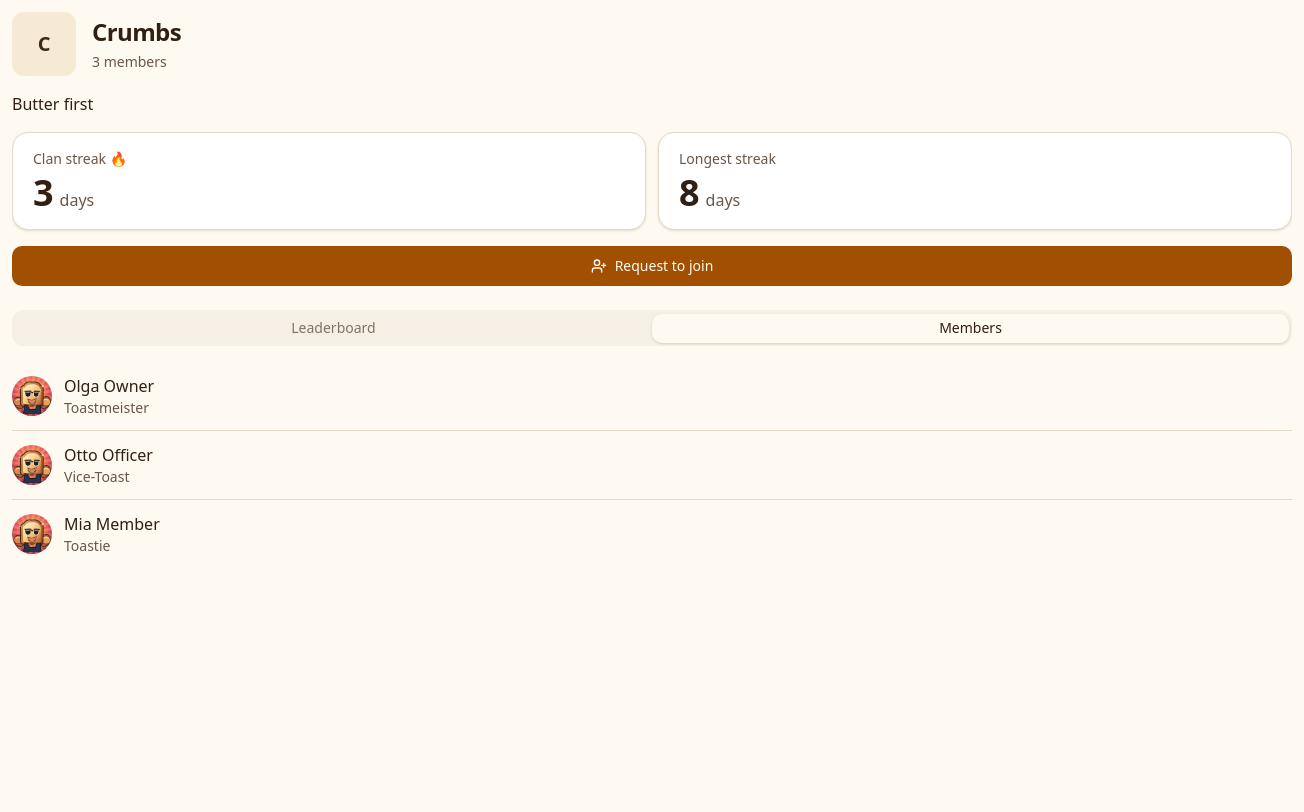
Test: ClanPage › explains a join conflict
Click the button "Request to join".
click(652, 266)  # box [12,246,1292,286]
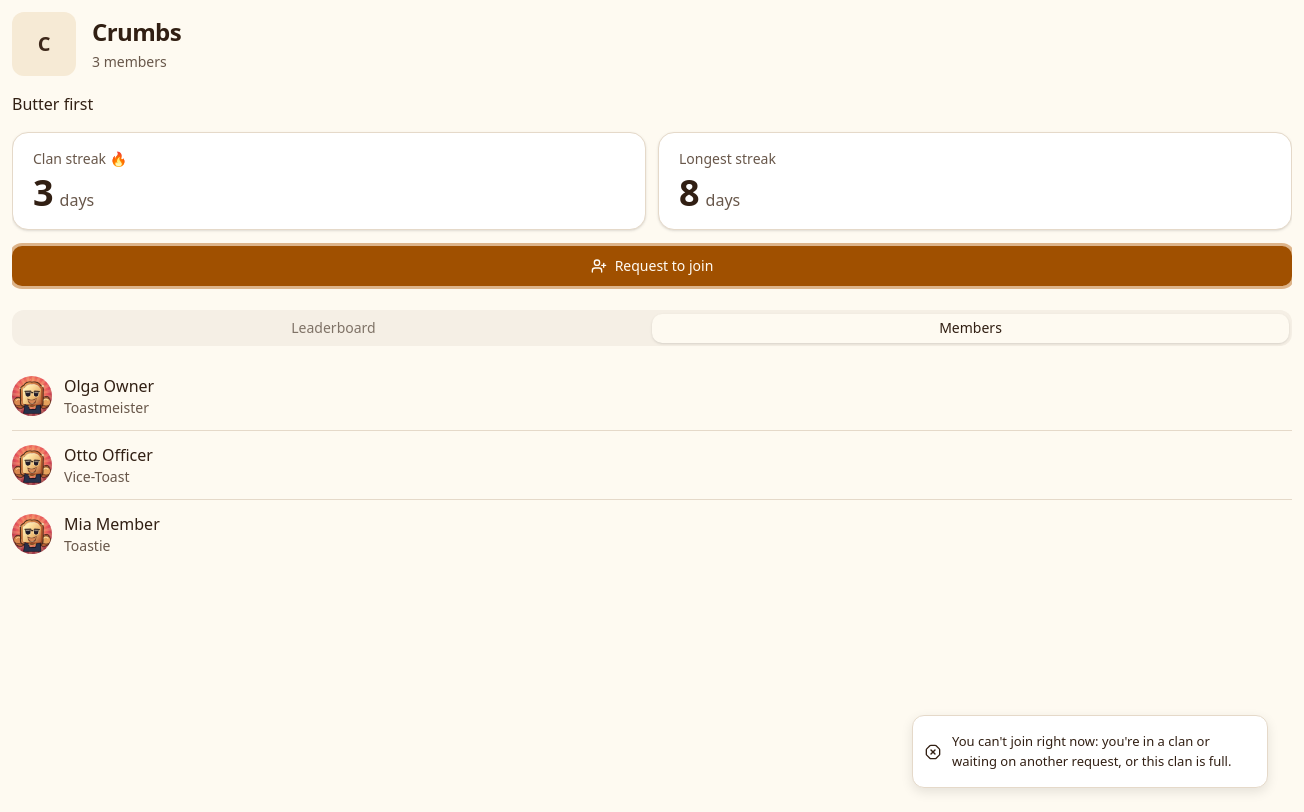
Now the text "this clan is full." is shown, box [952,732,1232,770]
